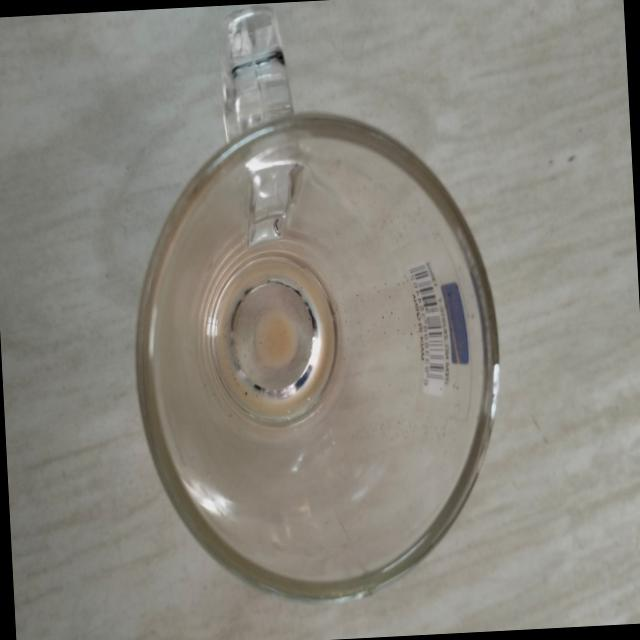glass-VX4N: (113, 0, 516, 625)
